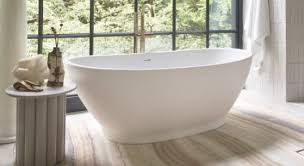bathub: (67, 43, 253, 146)
